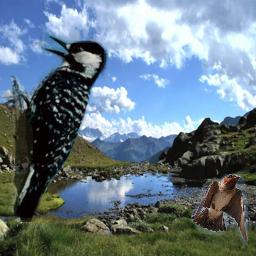Swallow: (191, 174, 248, 245)
Woodpecker: (0, 32, 112, 222)
